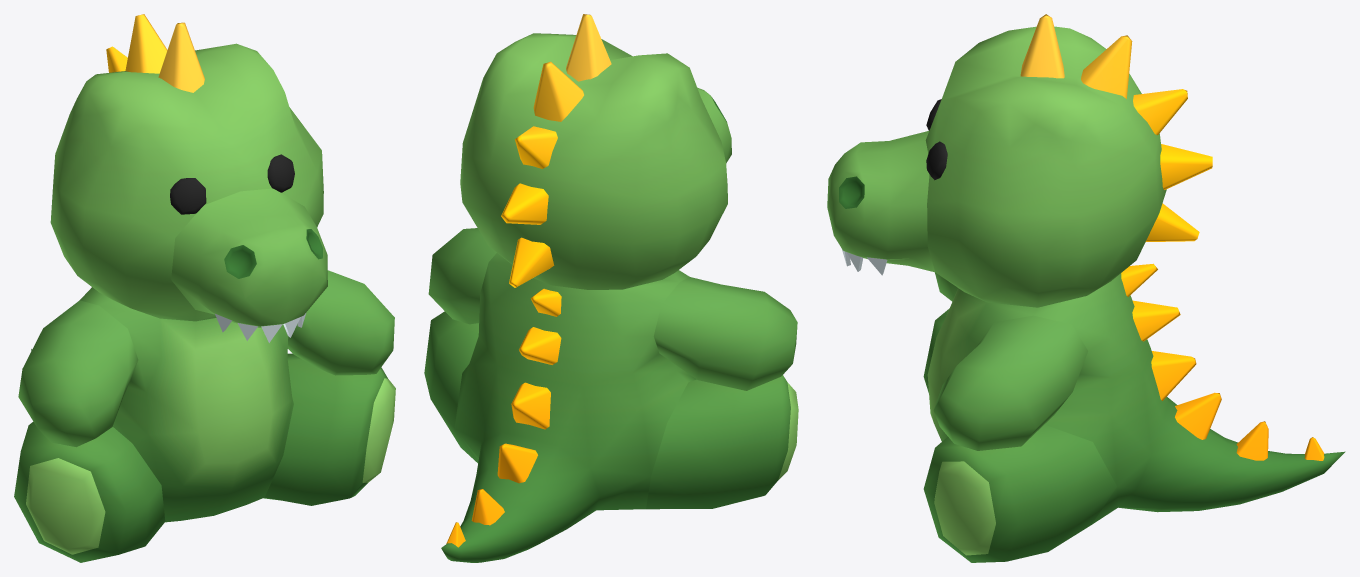
Rendered from Crocodile_01.glb.
3 views of the same model, side by side, from view 1: azimuth 30°, elevation 25°; view 2: azimuth 150°, elevation 25°; view 3: azimuth 270°, elevation 25° (orthographic). The views are drawn at different scales.
Parts seen in each view (by area): view 1: Crocodile_01; view 2: Crocodile_01; view 3: Crocodile_01.
Boxes of the visible parts, bbox=[...] form: Crocodile_01: bbox=[14, 14, 395, 562]; Crocodile_01: bbox=[424, 14, 798, 562]; Crocodile_01: bbox=[827, 14, 1345, 562].
Bounding box in the file's own units: 0.3281 × 0.4229 × 0.4052.
Materials: 2 (2 with a texture image).
